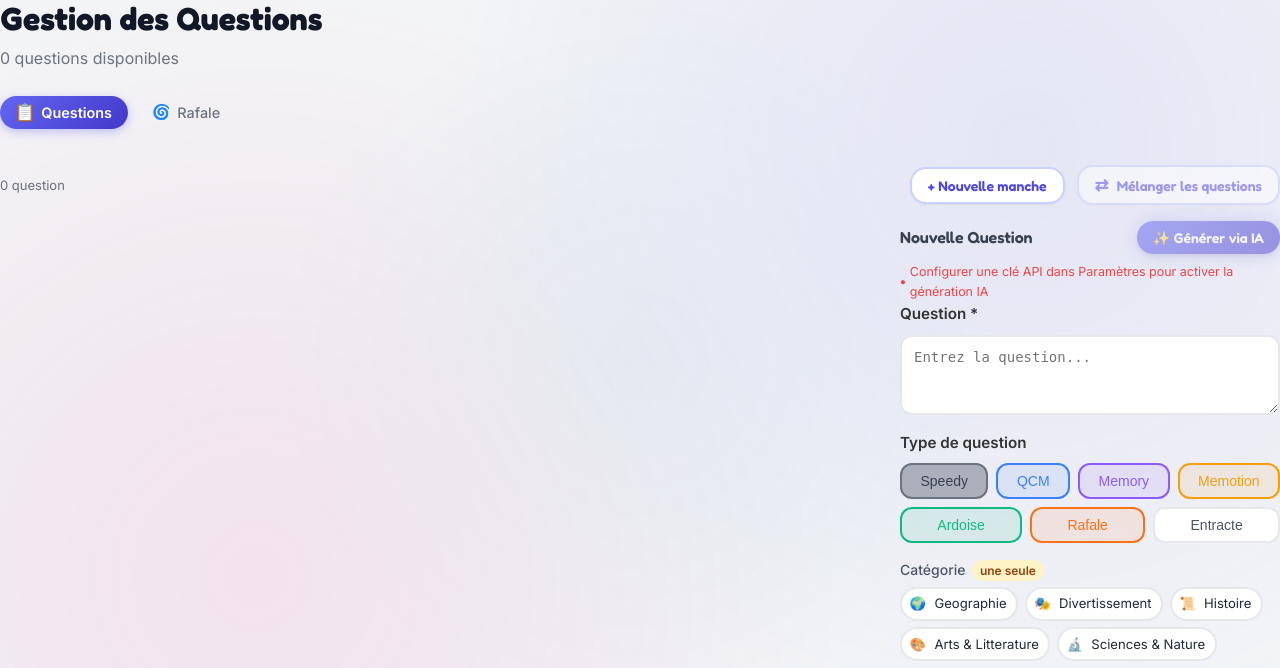
Test: Éditeur — champ « Pénalité mauvaise réponse » (#254, scénario 20) › passer d’un QCM à un autre type masque le champ ; revenir au QCM le réaffiche
What coordinates should you click on to do the following:
click the button "QCM"
I would click on:
 (1033, 481)
Its box is [996,463,1070,499].
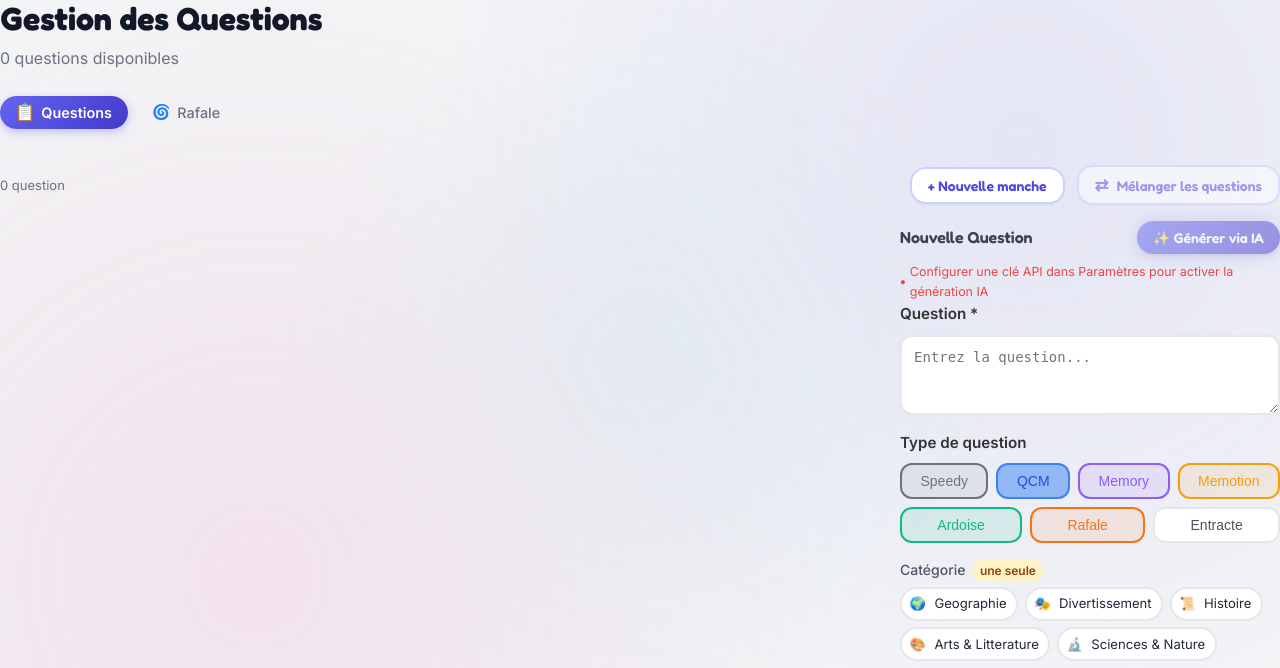
What coordinates should you click on to do the following:
click the button "Ardoise"
I would click on:
 (961, 525)
Its box is [900,507,1022,543].
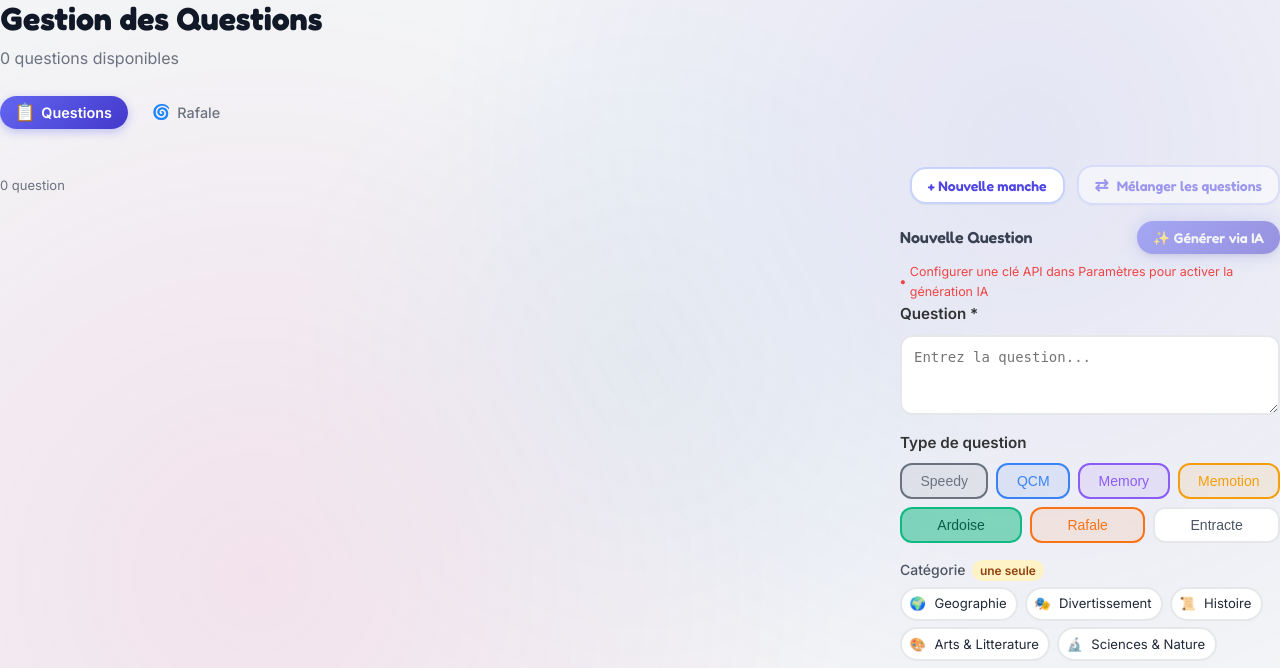
What coordinates should you click on to do the following:
click the button "QCM"
I would click on:
 (1033, 481)
Its box is [996,463,1070,499].
(page scrolled)
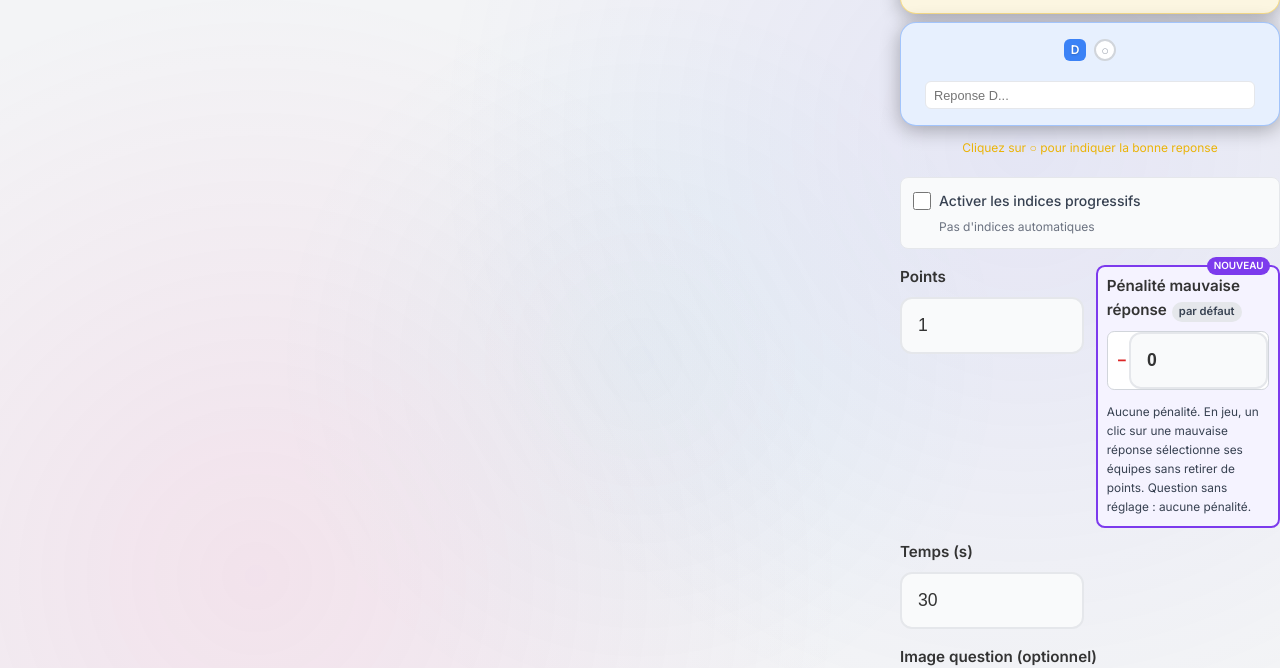
Result: the number field labelled "Pénalité mauvaise réponse par défaut" is shown at [1129,332,1268,389]
